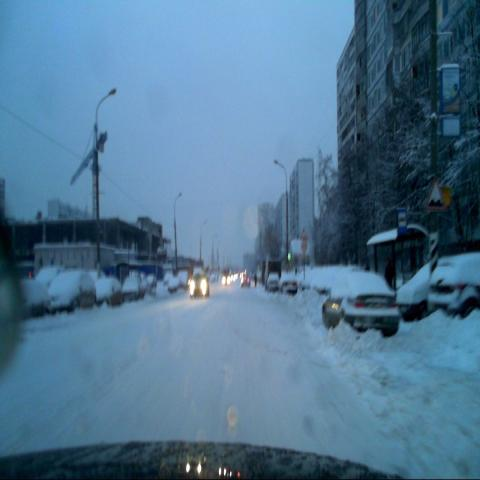1_16: (424, 180, 444, 212)
